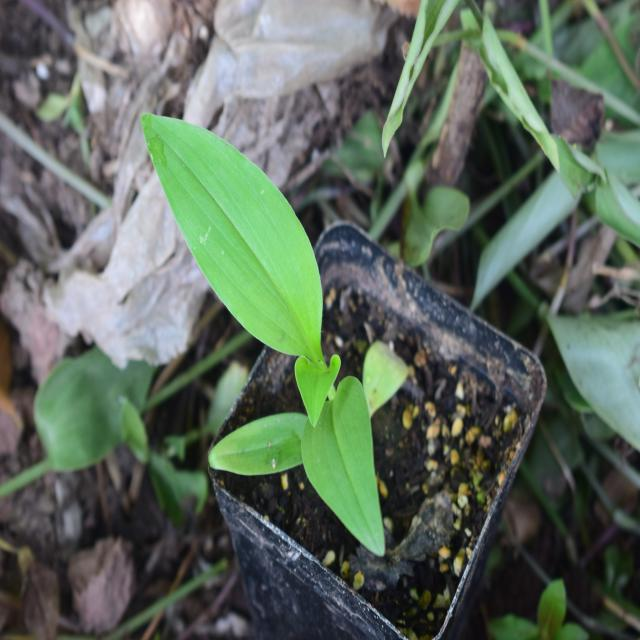Common Dayflower: (135, 109, 383, 552)
